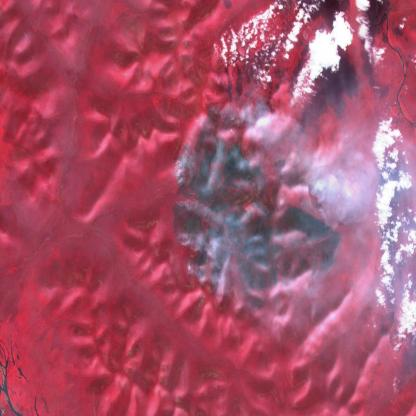fire: (273, 146, 323, 206), (199, 91, 263, 132), (166, 141, 202, 197)
